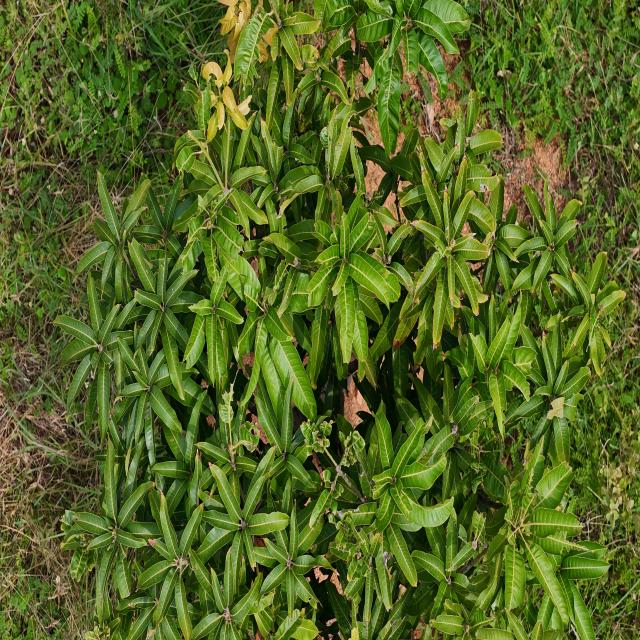mangoTree: (49, 0, 632, 640)
